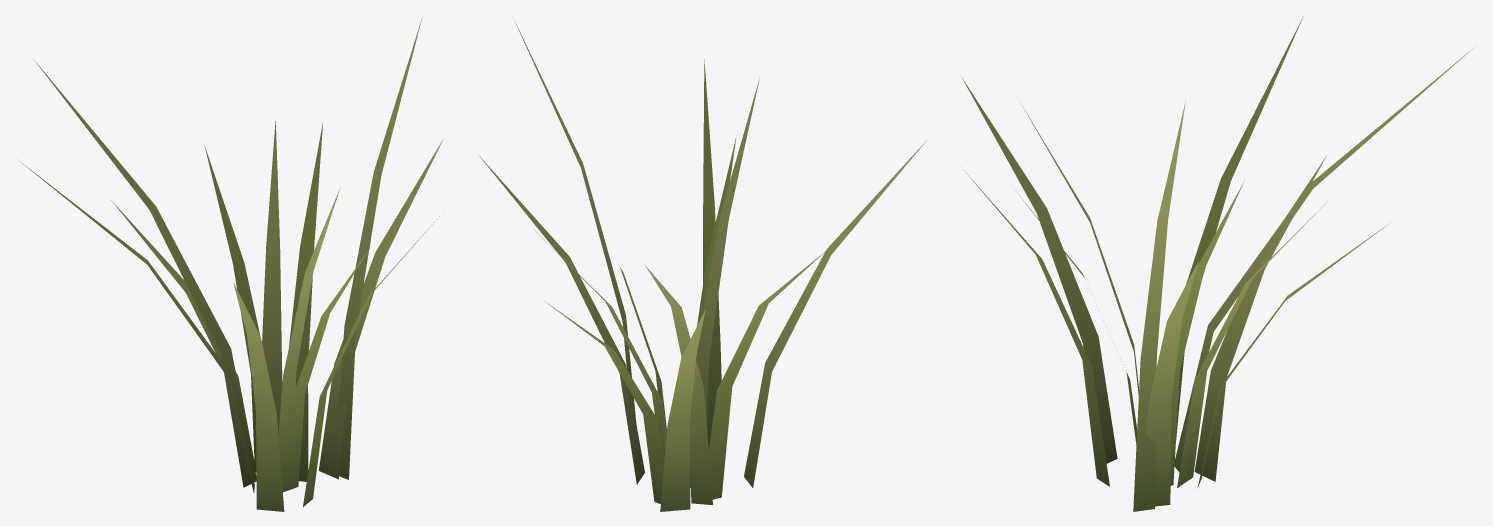
The model's file is grass.tall.summer.glb.
3 renders of one model, left to right at view 1: azimuth 30°, elevation 25°; view 2: azimuth 150°, elevation 25°; view 3: azimuth 270°, elevation 25°, orthographic. The views are drawn at different scales.
Visible parts, largest first — view 1: grass_tall_summer; view 2: grass_tall_summer; view 3: grass_tall_summer.
Boxes of the visible parts, x1,y1,x2,y2 form: grass_tall_summer: (19, 19, 444, 511); grass_tall_summer: (479, 16, 926, 511); grass_tall_summer: (961, 16, 1475, 511).
Bounding box in the file's own units: 0.8115 × 0.8599 × 0.8707.
